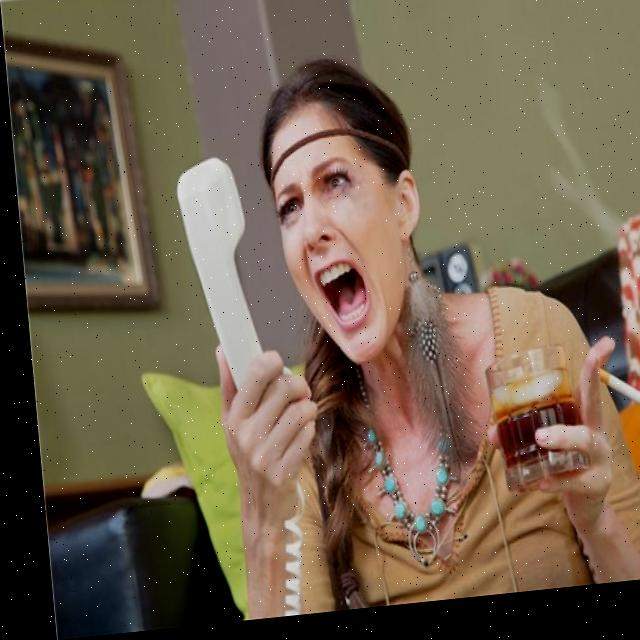cigarette: (585, 373, 640, 439)
